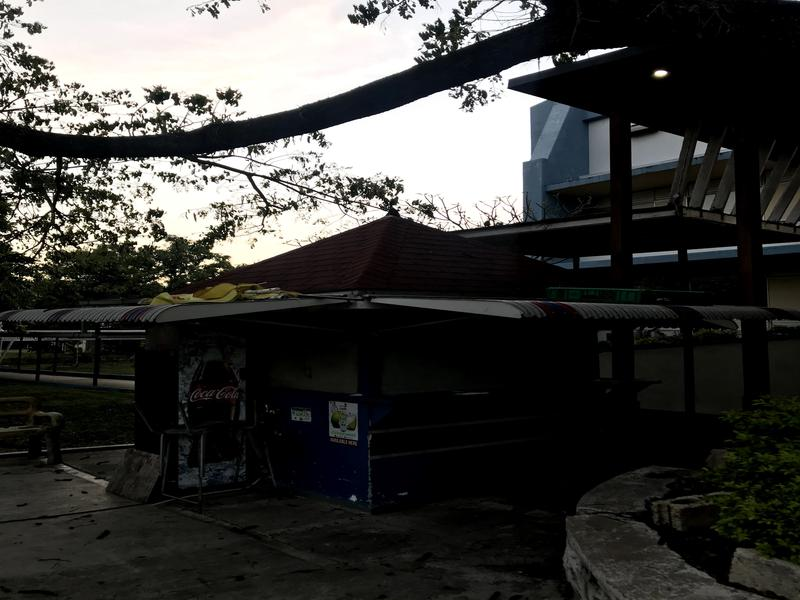18.0051667_-76.74944412_librarystall: (105, 209, 602, 528)
